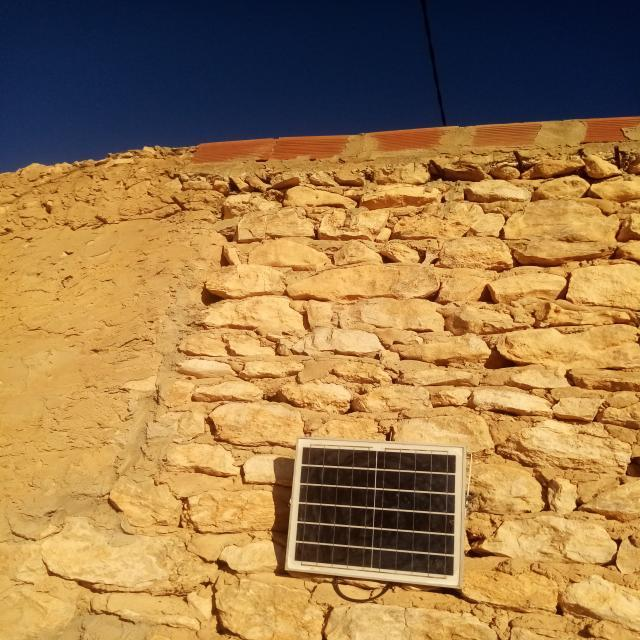faulty: (286, 437, 464, 587)
